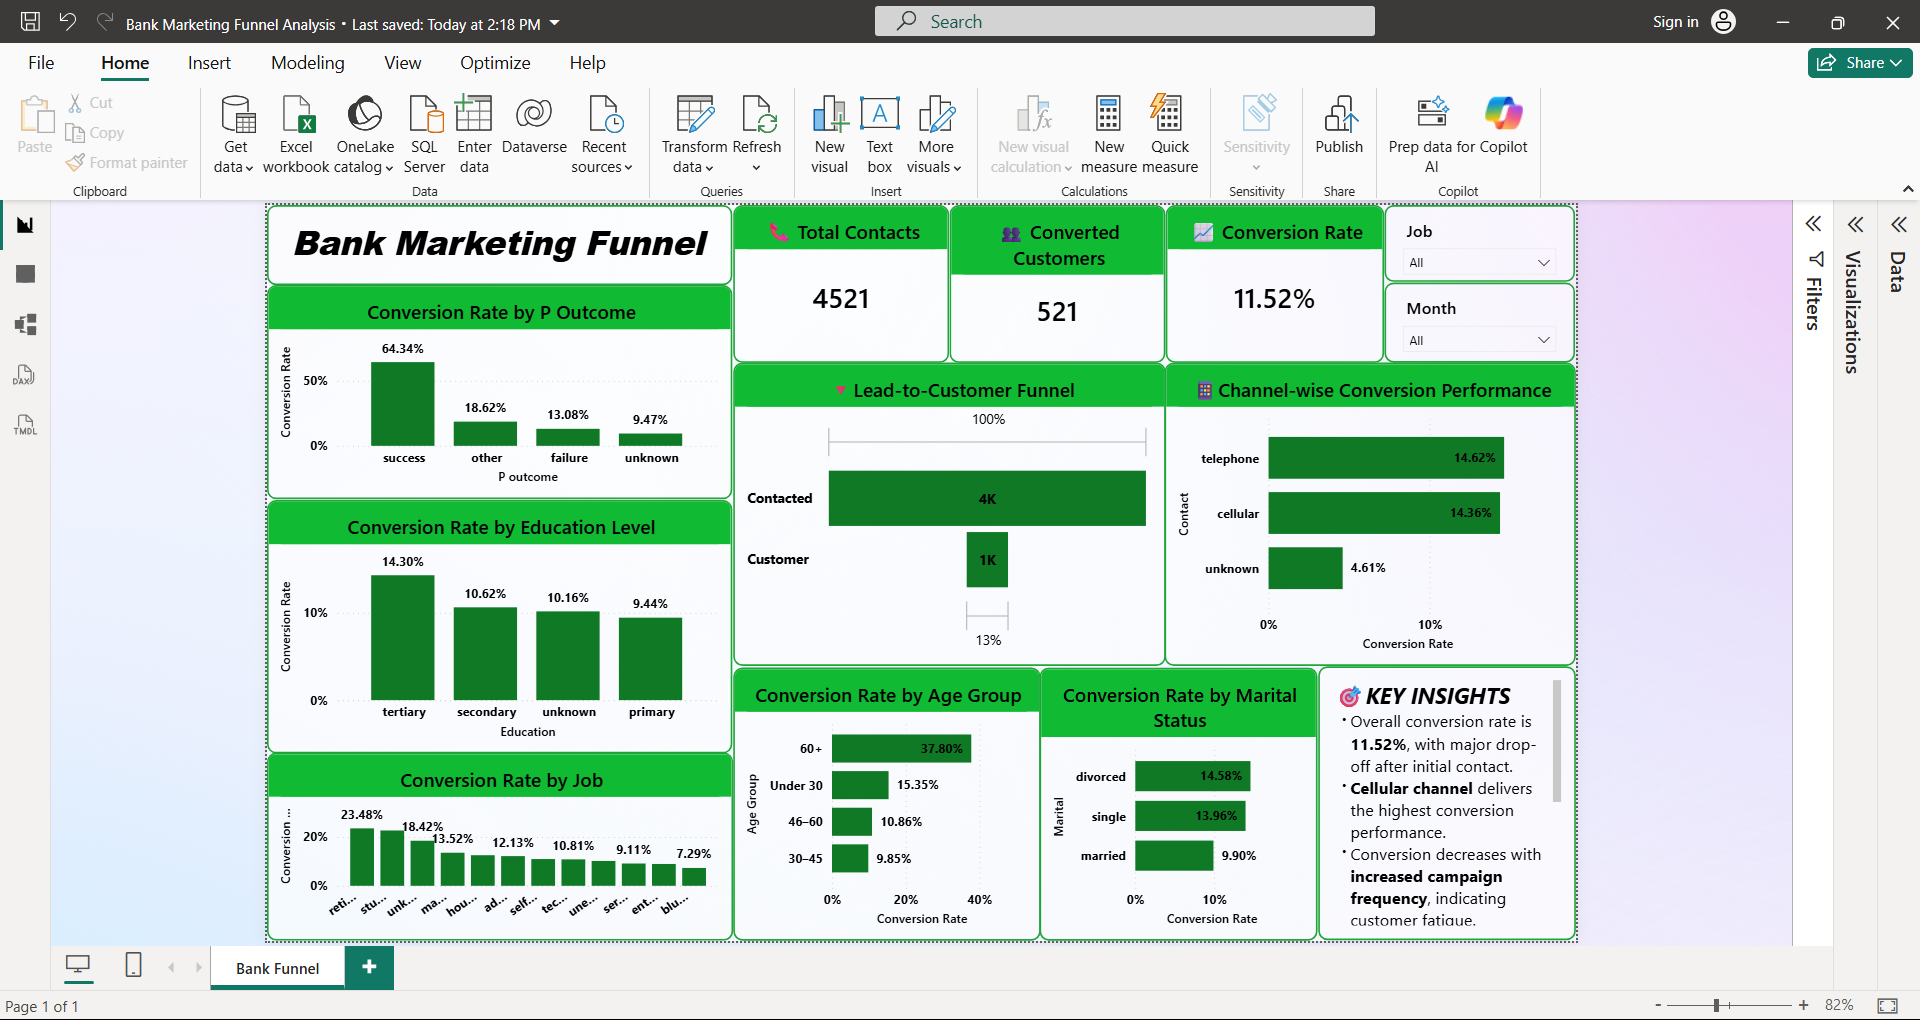

This screenshot's page, from the dashboard's own definition file:
{"tool":"powerbi","page":{"name":"Page 1","canvas":[1280,720],"ordinal":0},"visuals":[{"type":"card","title":"Total Contacts","fields":{"Values":["Cleaned_Bank_data.Total Contacts"]},"box":[455.6,0,211.3,153.7],"z":0},{"type":"card","title":"Converted Customers","fields":{"Values":["Cleaned_Bank_data.Total Customers"]},"box":[666.9,0,219.6,153.7],"z":1000},{"type":"card","title":"Conversion Rate","fields":{"Values":["Cleaned_Bank_data.Conversion Rate"]},"box":[886.6,0,210.3,154.1],"z":2000},{"type":"funnel","title":"Lead-to-Customer Funnel","fields":{"Y":["Cleaned_Bank_data.Funnel Count"],"Category":["Cleaned_Bank_data.Funnel Stage"]},"box":[455.6,153.7,413,299.1],"z":3000},{"type":"clusteredBarChart","title":"Channel-wise Conversion Performance","fields":{"Category":["Cleaned_Bank_data.Contact"],"Y":["Cleaned_Bank_data.Conversion Rate"]},"box":[868.6,153.7,411.7,299.1],"z":4000},{"type":"slicer","fields":{"Values":["Cleaned_Bank_data.Month"]},"box":[1093.7,75.5,186.6,78.2],"z":5000},{"type":"slicer","fields":{"Values":["Cleaned_Bank_data.Job"]},"box":[1093.7,0,186.6,75.5],"z":6000},{"type":"clusteredBarChart","title":"Conversion Rate by Marital Status","fields":{"Category":["Cleaned_Bank_data.Marital"],"Y":["Cleaned_Bank_data.Conversion Rate"]},"box":[756.1,452.8,271.7,267.6],"z":7000},{"type":"clusteredColumnChart","title":"Conversion Rate by Education Level","fields":{"Category":["Cleaned_Bank_data.Education"],"Y":["Cleaned_Bank_data.Conversion Rate"]},"box":[0,288.2,455.6,248.4],"z":8000},{"type":"clusteredBarChart","fields":{"Category":["Cleaned_Bank_data.Age Group"],"Y":["Cleaned_Bank_data.Conversion Rate"]},"box":[455.6,452.8,300.5,267.6],"z":9000},{"type":"clusteredColumnChart","title":"Conversion Rate by P Outcome","fields":{"Y":["Cleaned_Bank_data.Conversion Rate"],"Category":["Cleaned_Bank_data.P out Come"]},"box":[0,78.2,455.6,209.9],"z":10000},{"type":"textbox","title":"Bank Marketing Funnel","box":[0,0,455.6,78.2],"z":11000},{"type":"clusteredColumnChart","fields":{"Category":["Cleaned_Bank_data.Job"],"Y":["Cleaned_Bank_data.Conversion Rate"]},"box":[0,536,456,184],"z":12000},{"type":"textbox","box":[1028.4,451.2,251.9,267.8],"z":13000}]}

Visuals, with their boxes on the page's 1280x720 design canvas (x1, y1, x2, y2). These are canvas units, not pixel positions in the 1920x1020 screenshot, which may show the page scaled, cropped or inside an application window:
"Total Contacts" card: bbox=[456, 0, 667, 154]
"Converted Customers" card: bbox=[667, 0, 886, 154]
"Conversion Rate" card: bbox=[887, 0, 1097, 154]
"Lead-to-Customer Funnel" funnel: bbox=[456, 154, 869, 453]
"Channel-wise Conversion Performance" clusteredBarChart: bbox=[869, 154, 1280, 453]
slicer - Cleaned_Bank_data.Month: bbox=[1094, 76, 1280, 154]
slicer - Cleaned_Bank_data.Job: bbox=[1094, 0, 1280, 76]
"Conversion Rate by Marital Status" clusteredBarChart: bbox=[756, 453, 1028, 720]
"Conversion Rate by Education Level" clusteredColumnChart: bbox=[0, 288, 456, 537]
clusteredBarChart - Cleaned_Bank_data.Age Group x Cleaned_Bank_data.Conversion Rate: bbox=[456, 453, 756, 720]
"Conversion Rate by P Outcome" clusteredColumnChart: bbox=[0, 78, 456, 288]
"Bank Marketing Funnel" textbox: bbox=[0, 0, 456, 78]
clusteredColumnChart - Cleaned_Bank_data.Job x Cleaned_Bank_data.Conversion Rate: bbox=[0, 536, 456, 720]
textbox: bbox=[1028, 451, 1280, 719]
